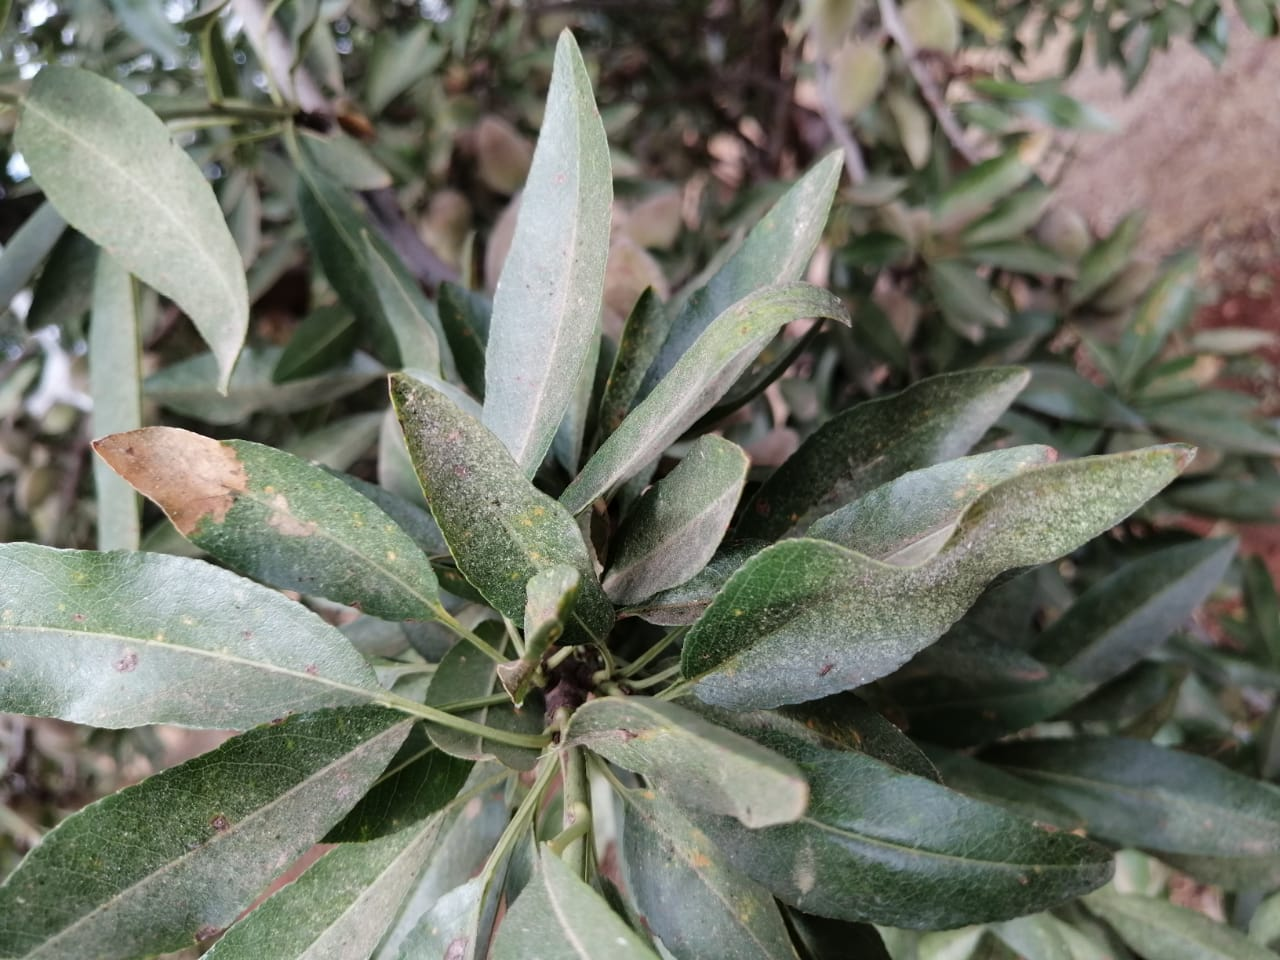acariens: (677, 441, 1198, 709), (1, 707, 413, 960), (1, 543, 478, 732), (382, 368, 617, 646)
